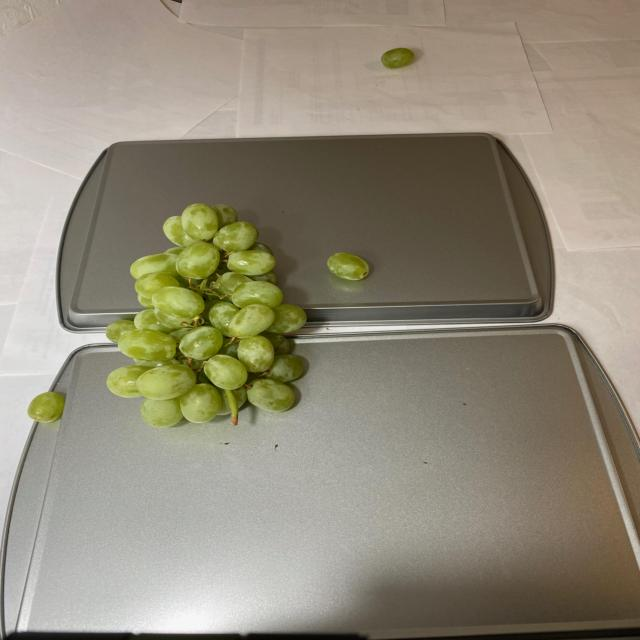Grapes: (103, 202, 319, 434), (322, 253, 377, 285), (23, 391, 74, 422), (377, 46, 416, 68)
